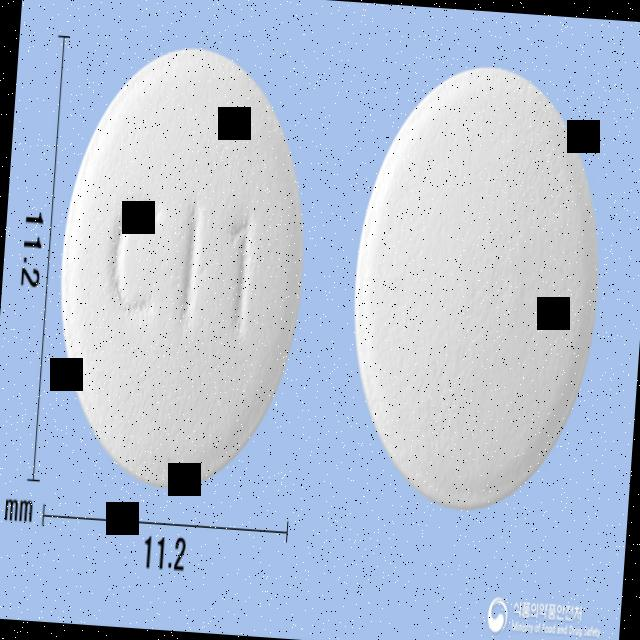Ciprocell: (45, 36, 322, 506)
